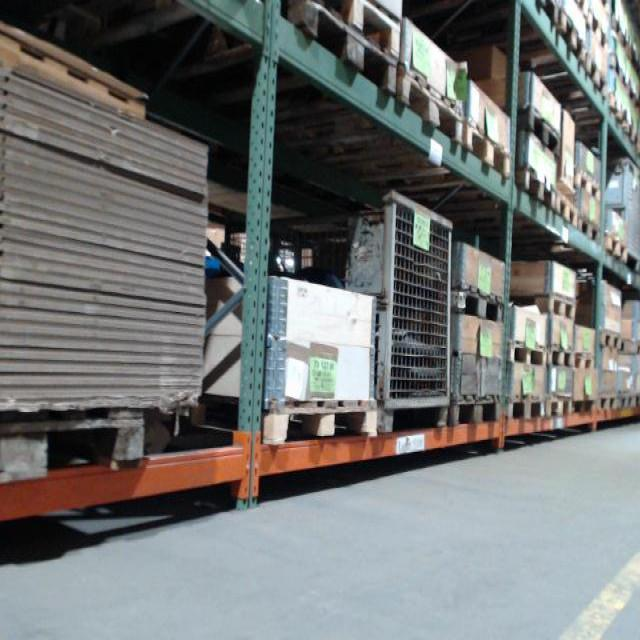pallet: (1, 396, 150, 492), (270, 3, 410, 102), (195, 389, 374, 445), (305, 1, 410, 54), (402, 61, 460, 139), (467, 120, 516, 183), (451, 284, 509, 329), (445, 393, 504, 433), (521, 103, 563, 154), (515, 171, 559, 214), (512, 288, 581, 314), (496, 392, 545, 425), (506, 339, 549, 370), (580, 55, 610, 98), (556, 188, 582, 234), (560, 16, 583, 61), (602, 231, 631, 266), (605, 90, 627, 134), (546, 395, 578, 421), (587, 16, 614, 46), (547, 345, 571, 377), (568, 346, 599, 370), (577, 170, 601, 197), (599, 392, 623, 417), (582, 218, 602, 247), (596, 328, 623, 348), (534, 1, 555, 21)
stillage: (222, 187, 453, 441), (606, 151, 639, 276)
